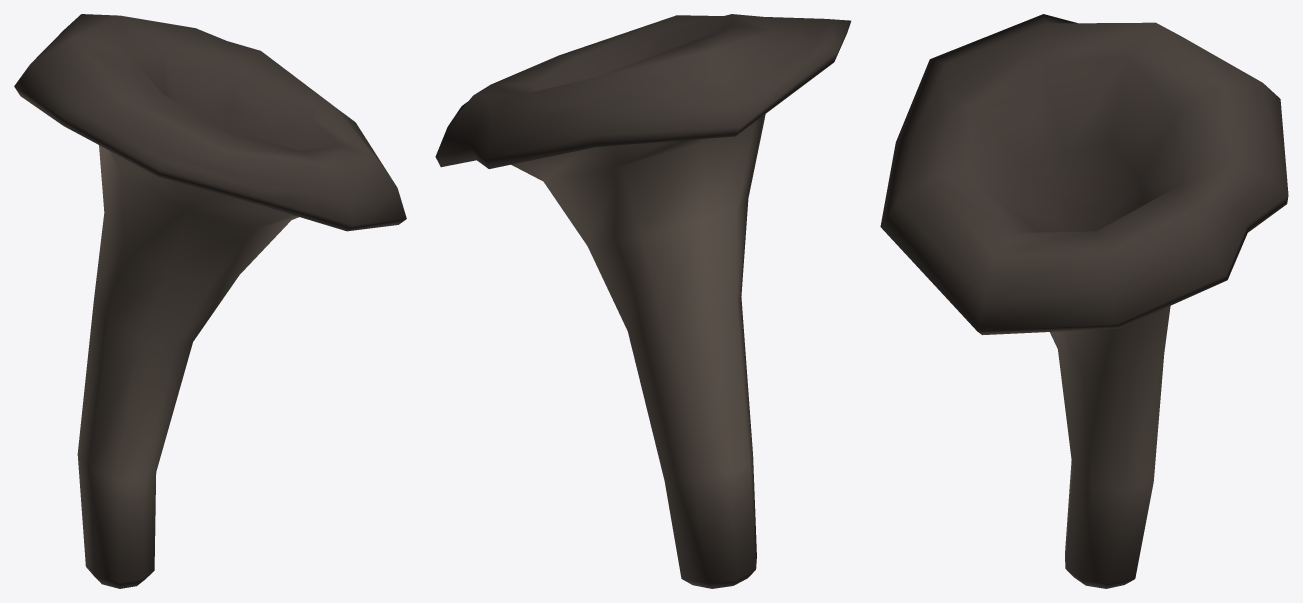
File: SM_BlackTrumpet_D.fbx
3 renders of one model, left to right at view 1: azimuth 30°, elevation 25°; view 2: azimuth 150°, elevation 25°; view 3: azimuth 270°, elevation 25°, orthographic. The views are drawn at different scales.
Parts seen in each view (by area): view 1: SM_BlackTrumpet_D; view 2: SM_BlackTrumpet_D; view 3: SM_BlackTrumpet_D.
Boxes of the visible parts, x1=… form: SM_BlackTrumpet_D: x1=14, y1=14, x2=406, y2=588; SM_BlackTrumpet_D: x1=435, y1=14, x2=851, y2=588; SM_BlackTrumpet_D: x1=880, y1=14, x2=1288, y2=588.
Size of the model in its own units: 17.93 by 27.11 by 18.4.
